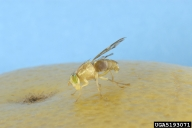Fruit fly: (62, 35, 138, 104)
